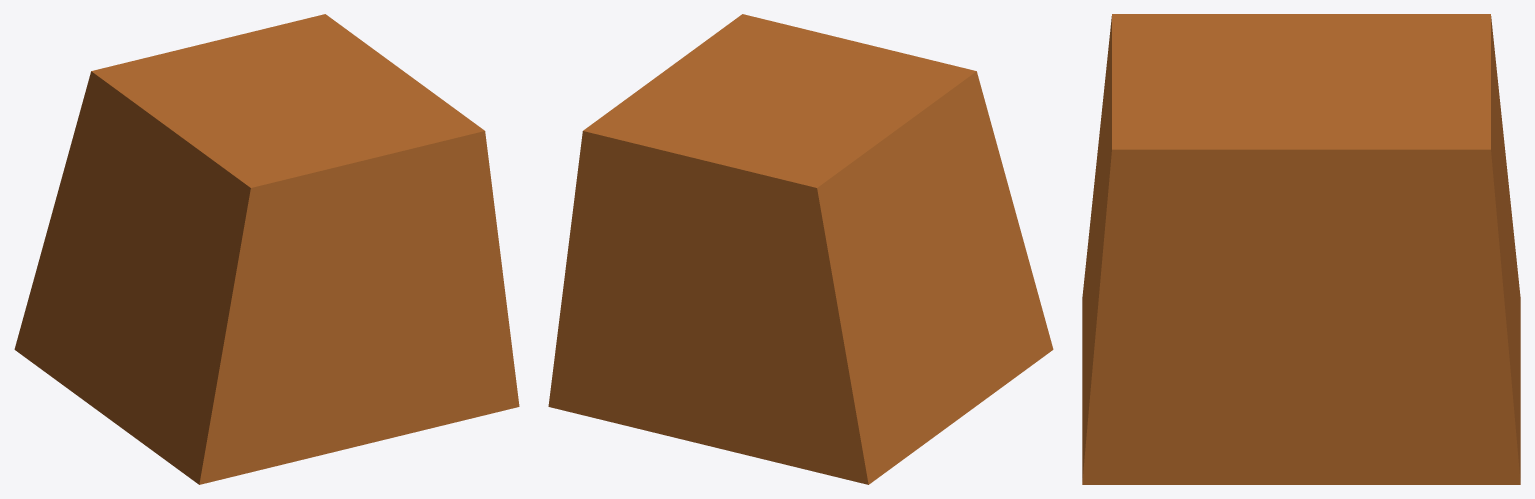
Rendered from pepper_cut.glb.
3 renders of one model, left to right at view 1: azimuth 30°, elevation 25°; view 2: azimuth 150°, elevation 25°; view 3: azimuth 270°, elevation 25°, orthographic. The views are drawn at different scales.
Visible parts, largest first — view 1: Cube; view 2: Cube; view 3: Cube.
Boxes of the visible parts, bbox=[...] form: Cube: bbox=[14, 14, 519, 484]; Cube: bbox=[548, 14, 1053, 484]; Cube: bbox=[1082, 14, 1520, 484].
Bounding box in the file's own units: 0.3151 × 0.2559 × 0.3151.
